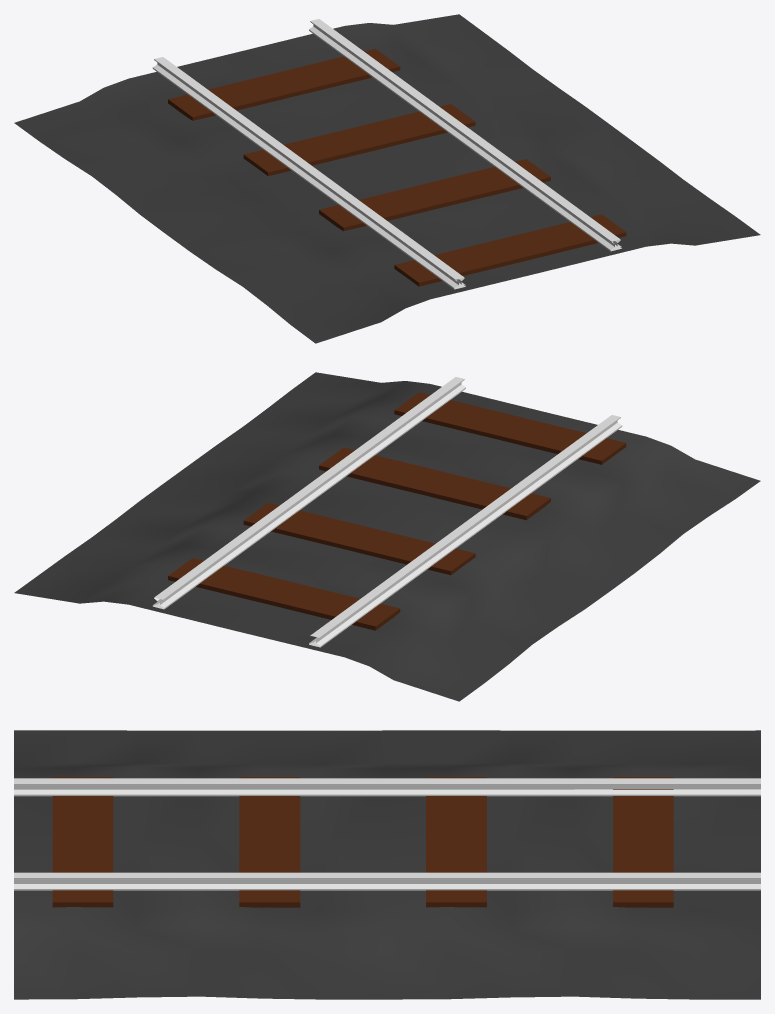
The model's file is ShortRails.fbx.
3 views of the same model, one above another, from view 1: azimuth 30°, elevation 25°; view 2: azimuth 150°, elevation 25°; view 3: azimuth 270°, elevation 25° (orthographic). The views are drawn at different scales.
Parts seen in each view (by area): view 1: Plane; view 2: Plane; view 3: Plane.
Boxes of the visible parts, left/top/right/bottom form: Plane: left=14, top=14, right=760, bottom=343; Plane: left=14, top=372, right=760, bottom=701; Plane: left=14, top=730, right=760, bottom=999.
Bounding box in the file's own units: 340 × 21.75 × 399.
